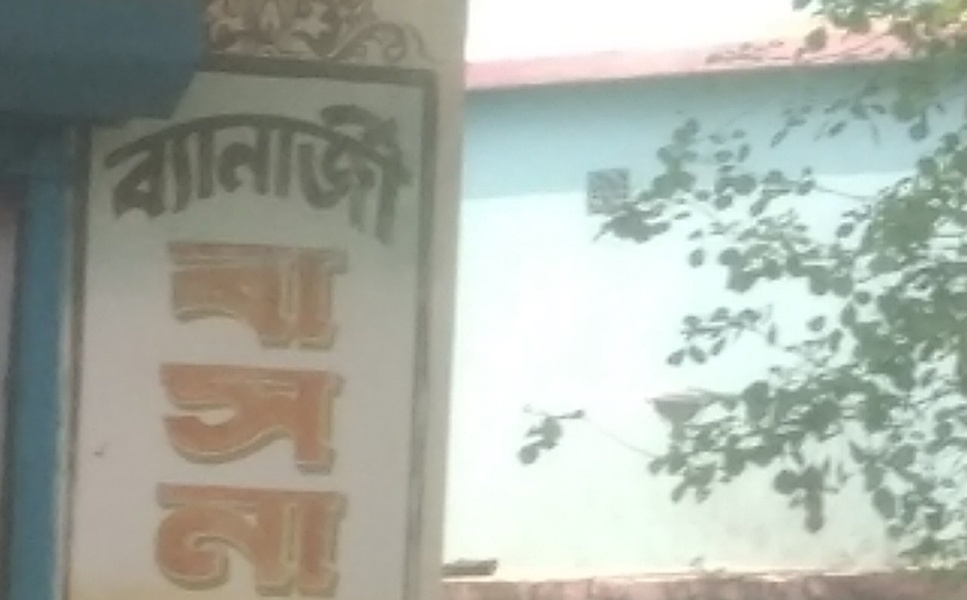text: (177, 235, 192, 599), (193, 235, 208, 599), (209, 235, 224, 599), (225, 235, 240, 599), (241, 235, 256, 599), (257, 235, 272, 599), (273, 235, 288, 599), (289, 235, 304, 599), (305, 235, 320, 599), (321, 235, 336, 599), (337, 235, 352, 599), (167, 235, 176, 599), (113, 100, 128, 250), (129, 100, 144, 250), (145, 100, 160, 250), (161, 100, 176, 250), (177, 100, 192, 250), (193, 100, 208, 250), (209, 100, 224, 250), (225, 100, 240, 250), (241, 100, 256, 250), (257, 100, 272, 250), (273, 100, 288, 250), (289, 100, 304, 250), (305, 100, 320, 250), (321, 100, 336, 250), (337, 100, 352, 250), (353, 100, 368, 250), (369, 100, 384, 250), (385, 100, 400, 250), (401, 100, 416, 250), (353, 235, 359, 599), (104, 100, 112, 250), (417, 100, 419, 250)
